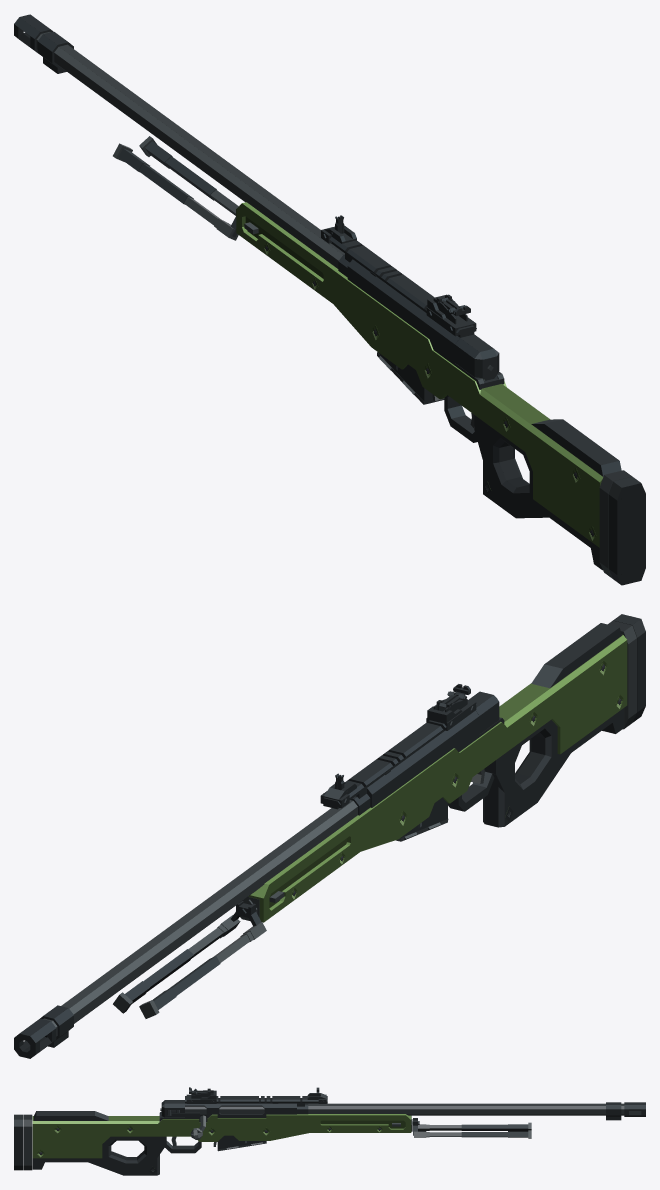
Rendered from taczkcsa_l115a3__l115a1.glb.
The picture shows the model from 3 angles, top to bottom: view 1: azimuth 30°, elevation 25°; view 2: azimuth 150°, elevation 25°; view 3: azimuth 270°, elevation 25°; orthographic projection. The views are drawn at different scales.
Parts seen in each view (by area): view 1: cube_219, cube_180, cube_45, cube_47, cube_190, cube_44, cube_162, cube_223, cube_205, cube_159, cube_176, cube_201 (+1 smaller); view 2: cube_180, cube_190, cube_45, cube_47, cube_44, cube_162, cube_223, cube_205, cube_159, cube_176, cube_203, cube_201 (+6 smaller); view 3: cube_45, cube_190, cube_180, cube_46, cube_223, cube_44, cube_160, cube_159, cube_176, cube_205, cube_229, cube_47 (+29 smaller).
Part boxes in pixels (x1,y1,x2,y2): cube_219: [608, 494, 645, 574]; cube_180: [479, 395, 600, 506]; cube_45: [36, 40, 338, 268]; cube_47: [36, 34, 342, 260]; cube_190: [533, 458, 599, 547]; cube_44: [41, 32, 344, 254]; cube_162: [375, 301, 423, 374]; cube_223: [323, 262, 376, 329]; cube_205: [544, 419, 619, 474]; cube_159: [242, 202, 327, 272]; cube_176: [440, 356, 475, 414]; cube_201: [482, 384, 602, 476]; cube_180: [507, 640, 627, 751]; cube_190: [557, 664, 627, 754]; cube_45: [56, 807, 357, 1036]; cube_47: [52, 801, 357, 1027]; cube_44: [43, 800, 352, 1036]; cube_162: [402, 752, 449, 825]; cube_223: [346, 786, 402, 858]; cube_205: [544, 623, 619, 676]; cube_159: [265, 824, 350, 892]; cube_176: [466, 722, 501, 776]; cube_203: [504, 635, 626, 727]; cube_201: [499, 634, 622, 721]; cube_45: [308, 1109, 624, 1114]; cube_190: [32, 1136, 102, 1158]; cube_180: [32, 1124, 157, 1136]; cube_46: [308, 1106, 624, 1109]; cube_223: [266, 1114, 320, 1132]; cube_44: [308, 1103, 624, 1105]; cube_160: [217, 1118, 266, 1135]; cube_159: [320, 1114, 405, 1120]; cube_176: [163, 1119, 199, 1136]; cube_205: [36, 1111, 94, 1120]; cube_229: [320, 1120, 405, 1128]; cube_47: [406, 1114, 624, 1115].
Bounding box in the file's own units: 0.0148 × 0.0401 × 0.2722.
1 material, 1 textured.
